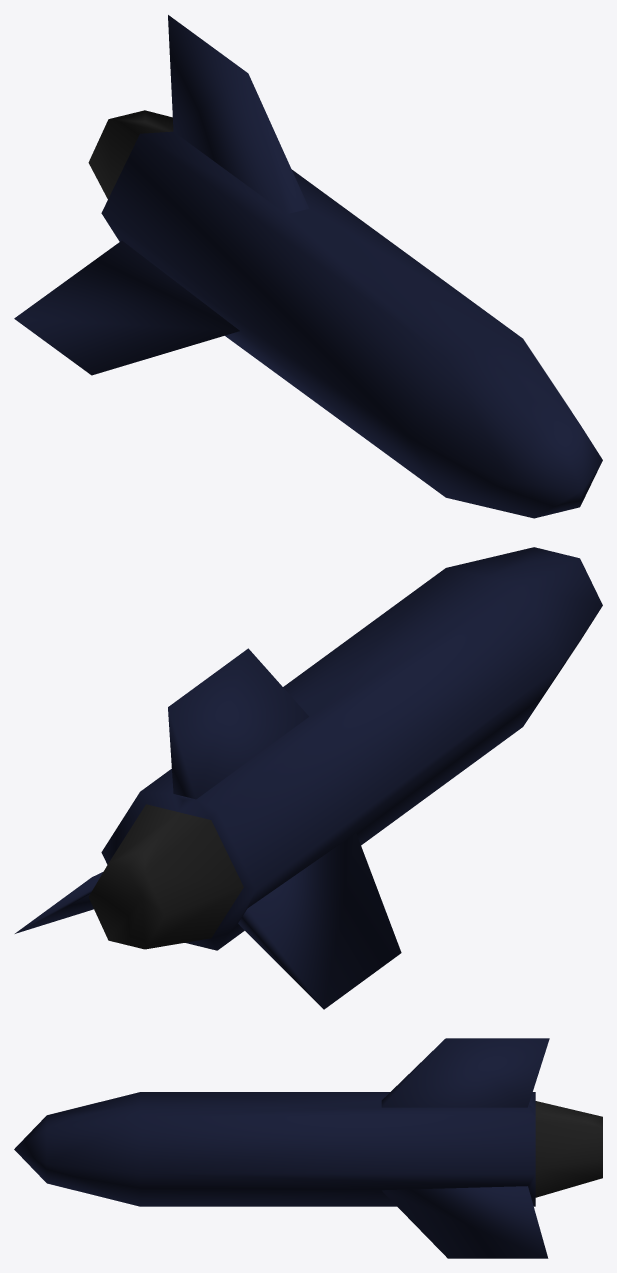
The model's file is missile01.FBX.
3 views of the same model, one above another, from view 1: azimuth 30°, elevation 25°; view 2: azimuth 150°, elevation 25°; view 3: azimuth 270°, elevation 25° (orthographic). The views are drawn at different scales.
Parts seen in each view (by area): view 1: missile01; view 2: missile01; view 3: missile01.
Boxes of the visible parts, x1=… form: missile01: x1=14, y1=15, x2=602, y2=518; missile01: x1=15, y1=547, x2=602, y2=1009; missile01: x1=14, y1=1038, x2=602, y2=1258.
Size of the model in its own units: 56.59 by 46.33 by 144.
